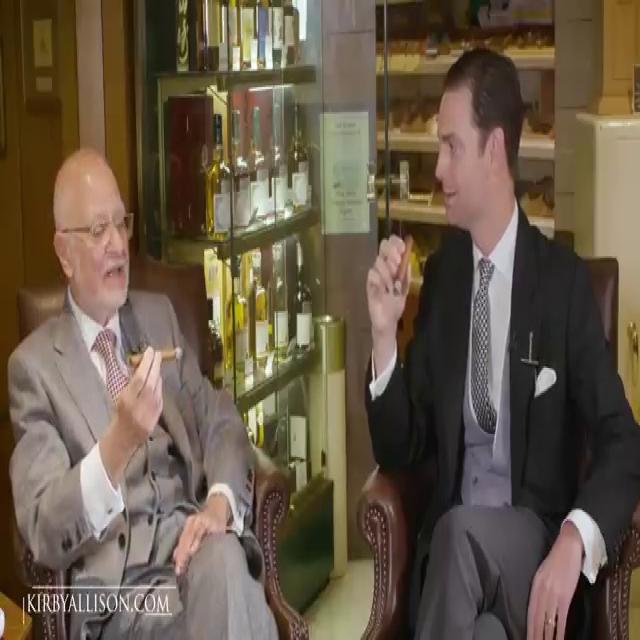Smooking: (128, 324, 182, 384), (388, 228, 416, 315)
